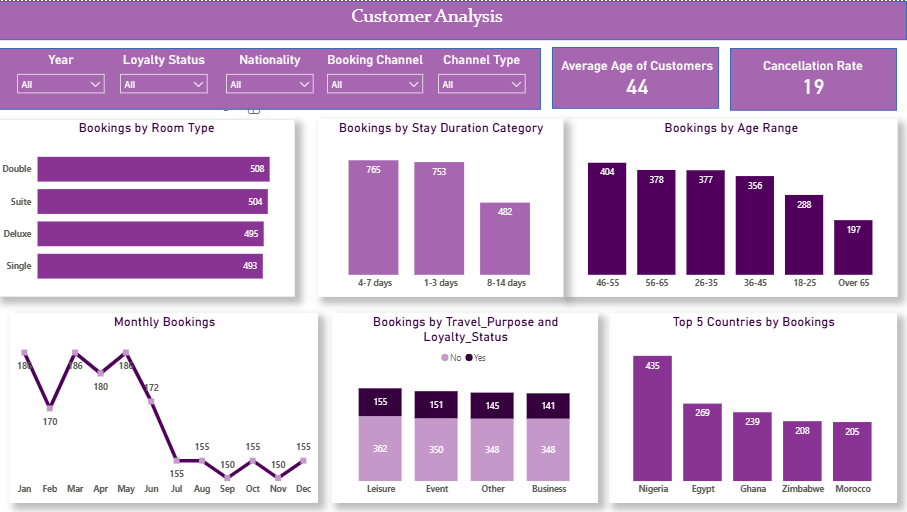

Layout of this report page (visuals, bound fields, positions):
{"tool":"powerbi","page":{"name":"Customer Analysis","canvas":[1280,720],"ordinal":1},"visuals":[{"type":"lineChart","title":"Monthly Bookings","fields":{"Y":["Measures Table.Bookings Count"],"Category":["Date_DIM.Month Name"]},"box":[19,438.2,433,267.4],"z":0},{"type":"columnChart","title":"Top 5 Countries by Bookings","fields":{"Y":["Measures Table.Bookings Count"],"Category":["Customer_DIM.Nationality"]},"box":[860.8,438.2,405.4,267.4],"z":1000},{"type":"barChart","title":"Bookings by Room Type","fields":{"Y":["Measures Table.Bookings Count"],"Category":["Booking_Table.Room_Type"]},"box":[0,165.6,419.2,250.1],"z":2000},{"type":"columnChart","title":"Bookings by Age Range","fields":{"Category":["Customer_DIM.Age Range"],"Y":["Measures Table.Bookings Count"]},"box":[797,165.6,469.2,250.1],"z":3000},{"type":"shape","box":[780,65,235,86.7],"z":3500,"group":"g1"},{"type":"columnChart","title":"Bookings by Stay Duration Category","fields":{"Category":["Booking_Table.Stay Duration Category"],"Y":["Measures Table.Bookings Count"]},"box":[452,165.6,345,250.1],"z":4000},{"type":"columnChart","title":"Bookings by Travel_Purpose and Loyalty_Status","fields":{"Category":["Customer_DIM.Travel_Purpose"],"Series":["Customer_DIM.Loyalty_Status"],"Y":["Measures Table.Bookings Count"]},"box":[470.9,438.2,374.3,267.4],"z":5000},{"type":"shape","box":[1031.6,65.6,234.6,88],"z":6000},{"type":"shape","box":[0,66.7,765,86.7],"z":7000},{"type":"shape","box":[0,0,1280,55.2],"z":8000},{"type":"card","title":"Average Age of Customers","fields":{"Values":["Avg(Customer_DIM.Age)"]},"box":[785,80,228.3,56.7],"z":8500,"group":"g1"},{"type":"card","title":"Cancellation Rate","fields":{"Values":["Measures Table.Cancellation Rate"]},"box":[1033.3,80,228.3,56.7],"z":9000},{"type":"group","id":"g1","title":"Group 1","box":[780,65,235,86.7],"z":10000},{"type":"slicer","title":"Year","fields":{"Values":["Date_DIM.Year"]},"box":[18.3,71.7,143.3,73.3],"z":11000},{"type":"slicer","title":"Loyalty Status","fields":{"Values":["Customer_DIM.Loyalty_Status"]},"box":[163.3,71.7,143.3,73.3],"z":12000},{"type":"slicer","title":"Nationality","fields":{"Values":["Customer_DIM.Nationality"]},"box":[311.7,71.7,143.3,73.3],"z":13000},{"type":"slicer","title":"Booking Channel","fields":{"Values":["Channel_DIM.Booking_Channel"]},"box":[455,71.7,155,73.3],"z":14000},{"type":"slicer","title":"Channel Type","fields":{"Values":["Channel_DIM.Channel_Type"]},"box":[610,71.7,143.3,73.3],"z":15000},{"type":"textbox","box":[99.9,0,1009.9,54.9],"z":15001}]}

Visuals, with their boxes in screenshot pixels (x1, y1, x2, y2), scaled from the page's 1280x720 canvas onto the 907x512 screenshot:
"Monthly Bookings" lineChart: bbox(13, 312, 320, 502)
"Top 5 Countries by Bookings" columnChart: bbox(610, 312, 897, 502)
"Bookings by Room Type" barChart: bbox(0, 118, 297, 296)
"Bookings by Age Range" columnChart: bbox(565, 118, 897, 296)
shape: bbox(553, 46, 719, 108)
"Bookings by Stay Duration Category" columnChart: bbox(320, 118, 565, 296)
"Bookings by Travel_Purpose and Loyalty_Status" columnChart: bbox(334, 312, 599, 502)
shape: bbox(731, 47, 897, 109)
shape: bbox(0, 47, 542, 109)
shape: bbox(0, 0, 906, 39)
"Average Age of Customers" card: bbox(556, 57, 718, 97)
"Cancellation Rate" card: bbox(732, 57, 894, 97)
"Group 1" group: bbox(553, 46, 719, 108)
"Year" slicer: bbox(13, 51, 115, 103)
"Loyalty Status" slicer: bbox(116, 51, 217, 103)
"Nationality" slicer: bbox(221, 51, 322, 103)
"Booking Channel" slicer: bbox(322, 51, 432, 103)
"Channel Type" slicer: bbox(432, 51, 534, 103)
textbox: bbox(71, 0, 786, 39)
